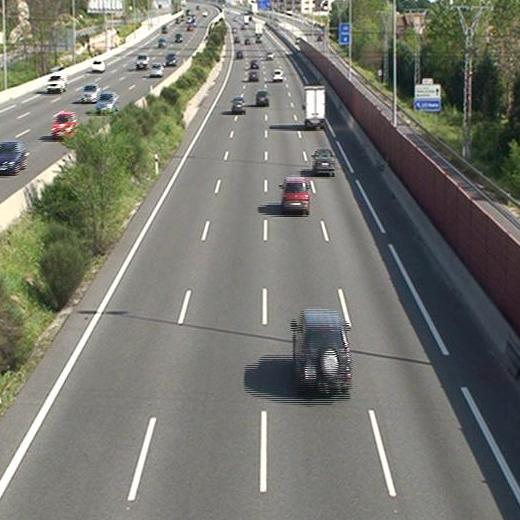car: (293, 311, 353, 392), (280, 176, 311, 213), (313, 148, 335, 175), (255, 90, 269, 105), (232, 97, 245, 113), (271, 69, 282, 82), (248, 58, 260, 69), (249, 70, 258, 81)
small-truck: (303, 86, 326, 129)
